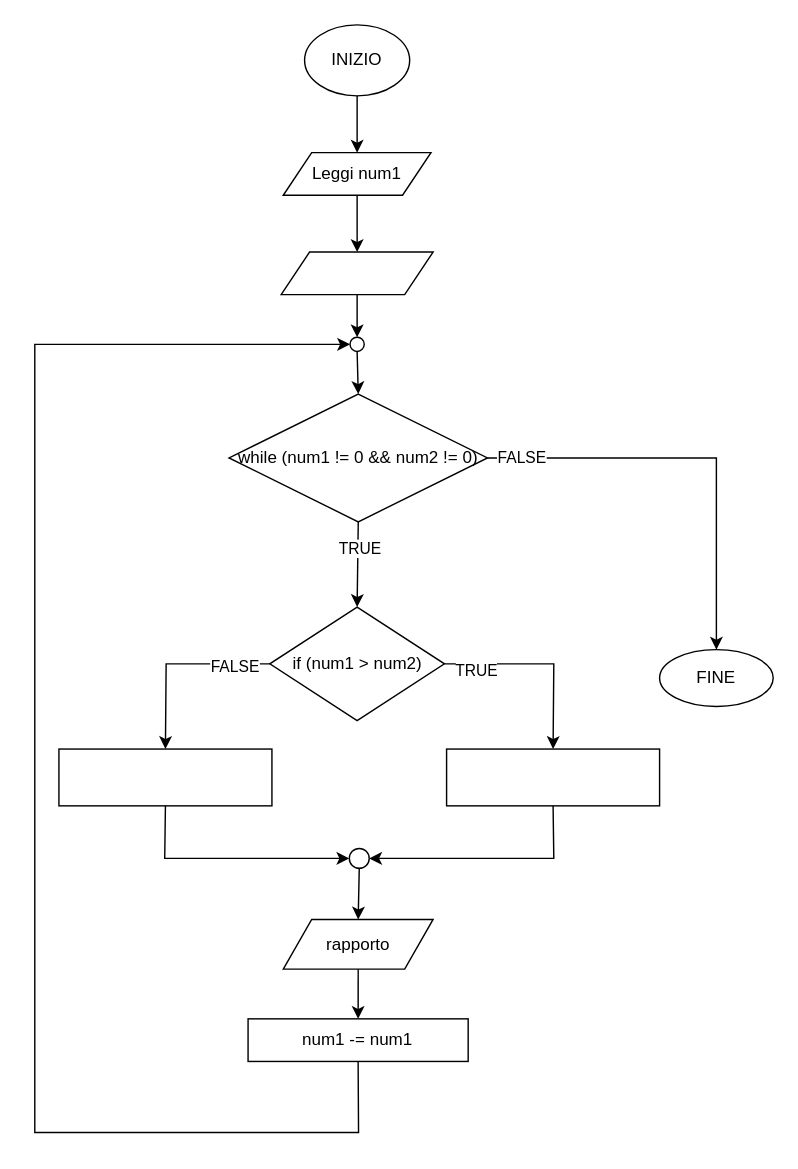
This 798x1169 diagram has some shape labels left out. The centre of each missing label's shape, as x and y in pixels:
Leggi num2: (x=356, y=273)
rapporto = num1 / num2: (x=552, y=777)
rapporto = num2 / num1: (x=165, y=777)
